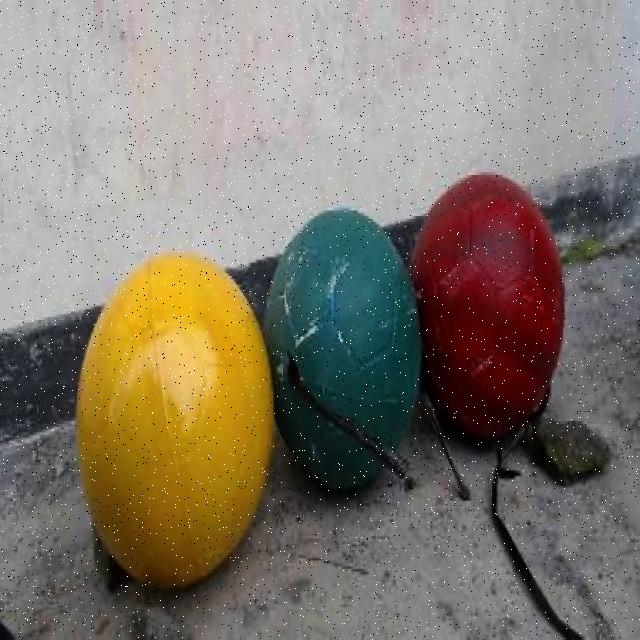buoy: (75, 249, 272, 586), (262, 209, 421, 491), (408, 171, 566, 442)
